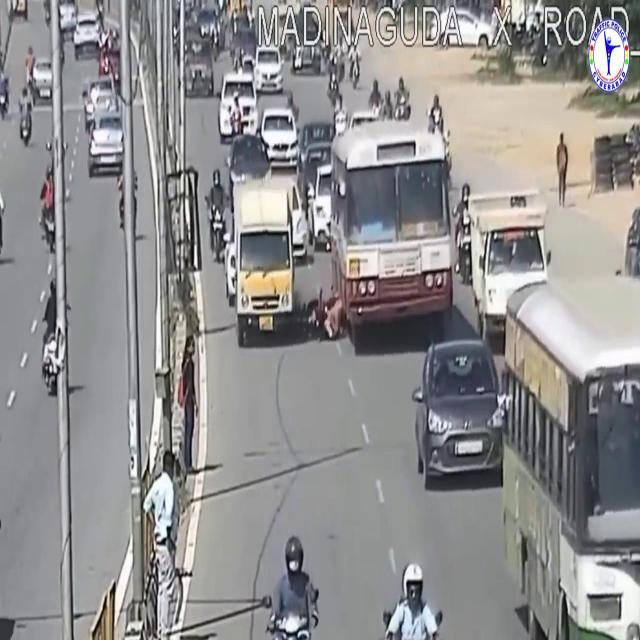accident: (228, 113, 450, 357)
non_accident: (408, 181, 640, 640), (181, 0, 303, 170), (60, 0, 125, 181)
